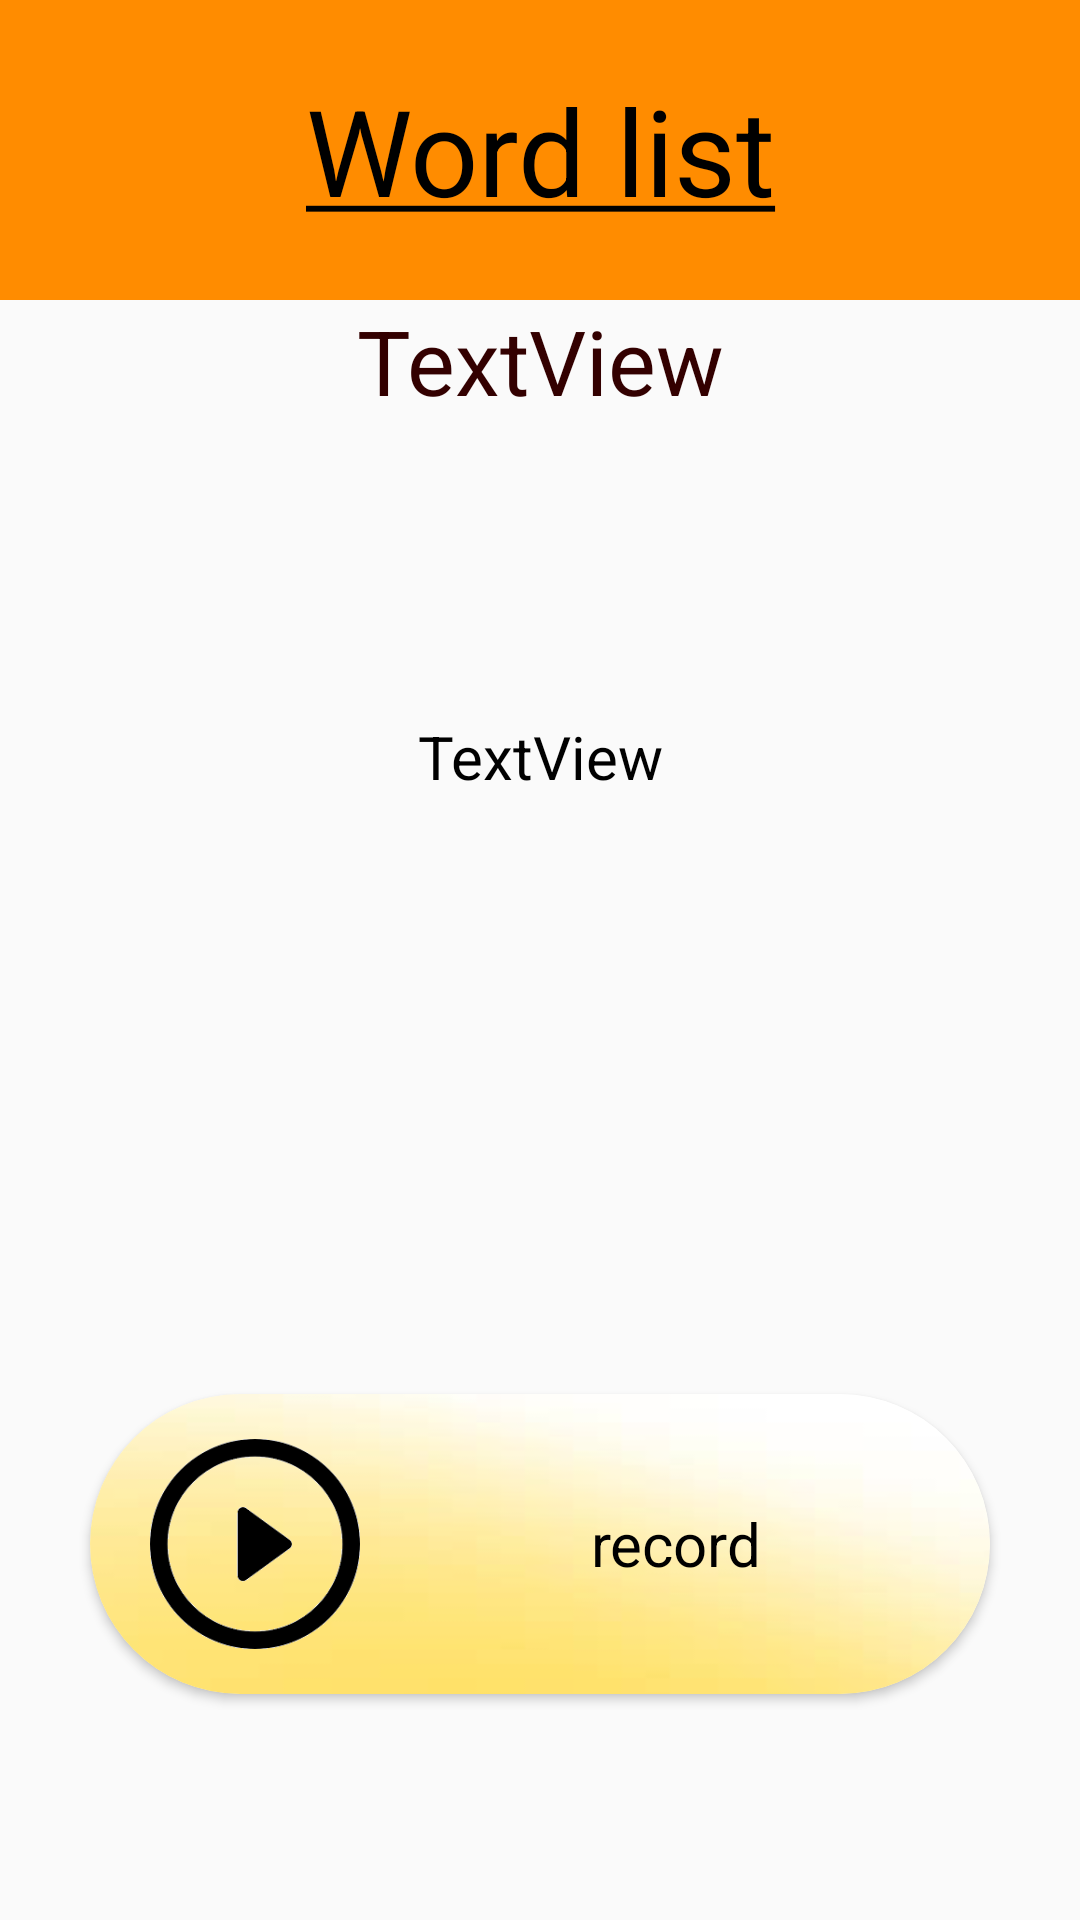

Icons on this 1080 × 1920 Android screen, each with the point to tap as point (x, y):
play: point (225, 1544)
